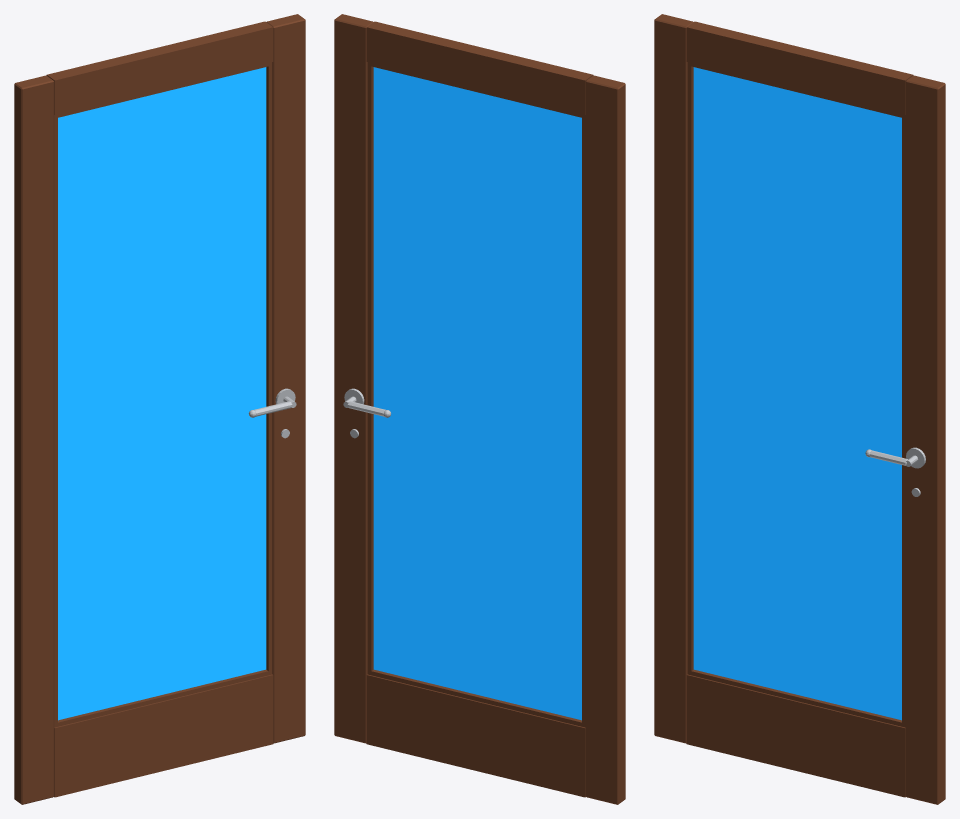
The model's file is porta_vidro_inteiro_madeira.glb.
3 renders of one model, left to right at view 1: azimuth 30°, elevation 25°; view 2: azimuth 150°, elevation 25°; view 3: azimuth 330°, elevation 25°, orthographic.
Parts seen in each view (by area): view 1: porta_vidro_inteiro_madeira; view 2: porta_vidro_inteiro_madeira; view 3: porta_vidro_inteiro_madeira.
Boxes of the visible parts, x1,y1,x2,y2 form: porta_vidro_inteiro_madeira: [14, 14, 305, 804]; porta_vidro_inteiro_madeira: [334, 14, 625, 804]; porta_vidro_inteiro_madeira: [654, 14, 945, 804].
Size of the model in its own units: 0.86 by 2.07 by 0.143.
